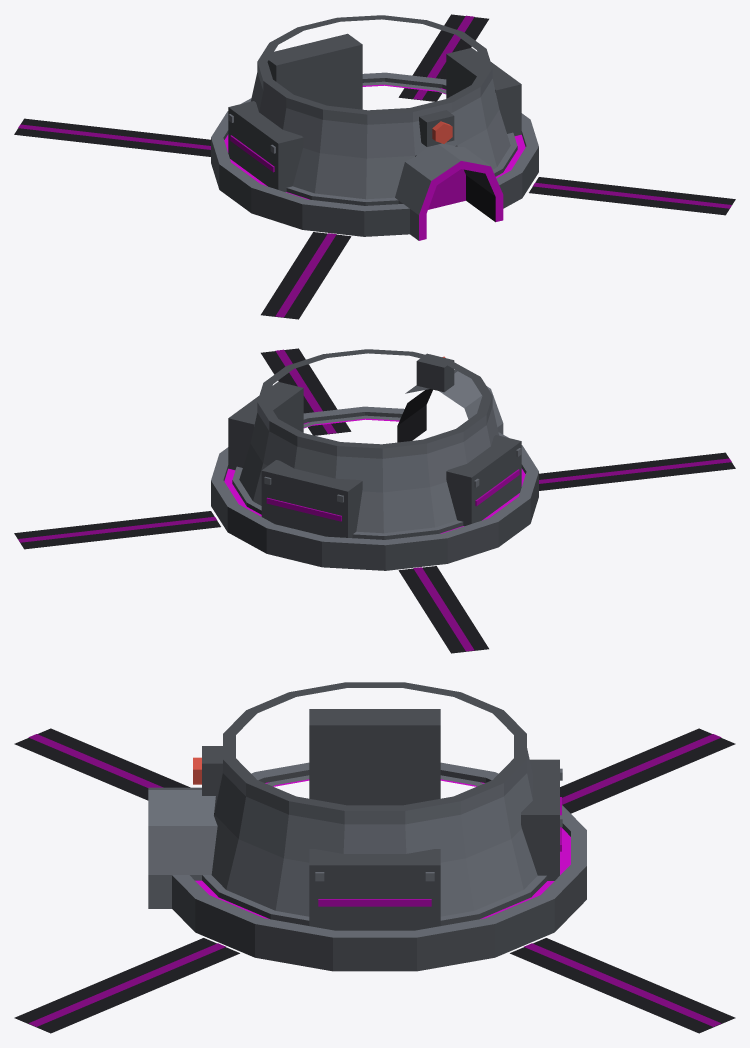
File: tube_entrance_v3_t1.glb
3 renders of one model, top to bottom at view 1: azimuth 30°, elevation 25°; view 2: azimuth 150°, elevation 25°; view 3: azimuth 270°, elevation 25°, orthographic. The views are drawn at different scales.
Parts seen in each view (by area): view 1: Tube_Entrance; view 2: Tube_Entrance; view 3: Tube_Entrance.
Part boxes in pixels (x1,y1,x2,y2): Tube_Entrance: [14, 14, 735, 319]; Tube_Entrance: [14, 348, 735, 653]; Tube_Entrance: [14, 682, 735, 1033].
Bounding box in the file's own units: 4.84 × 1 × 4.84.
